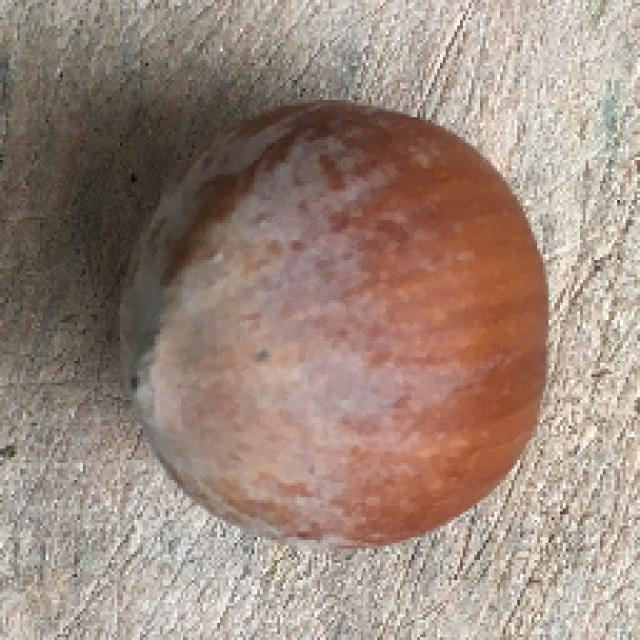qualityHazelnut: (110, 98, 556, 556)
